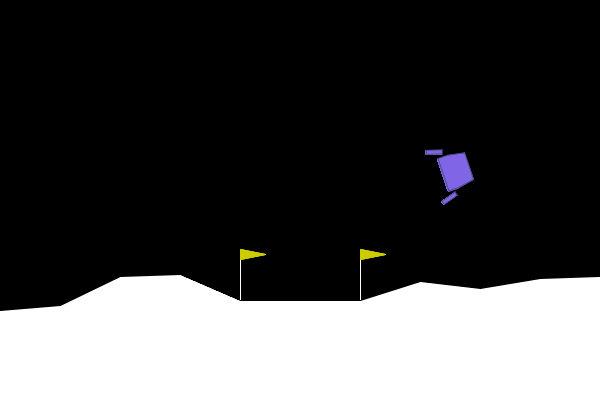lander: (423, 137, 480, 207)
